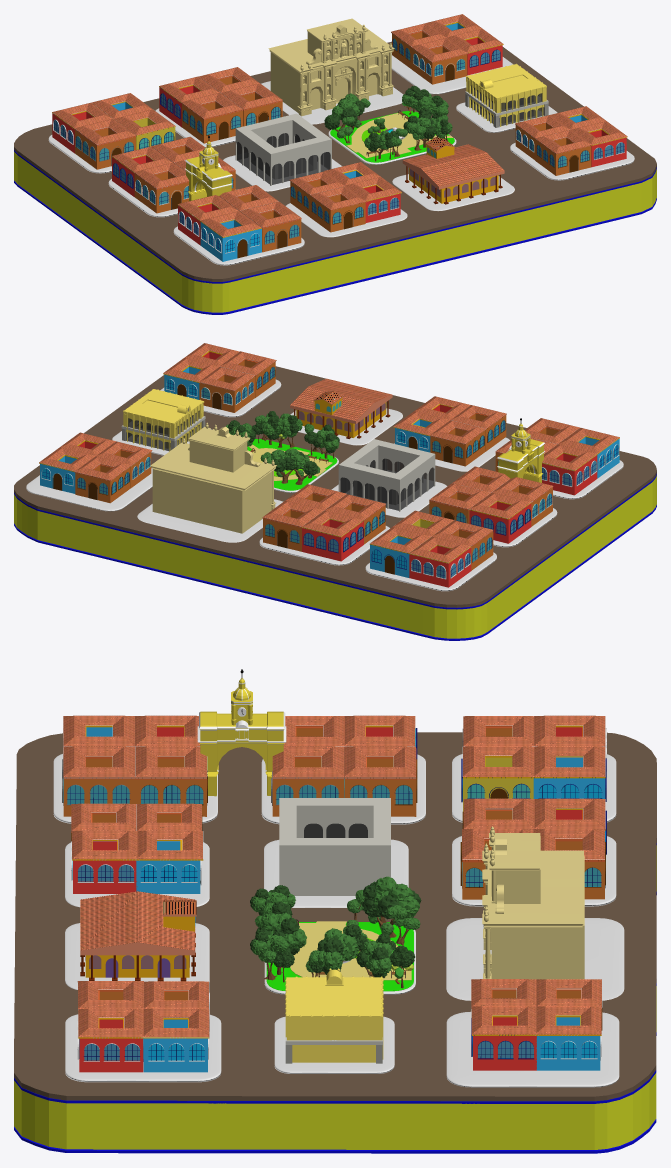
Rendered from FaseTREE.fbx.
The picture shows the model from 3 angles, top to bottom: view 1: azimuth 30°, elevation 25°; view 2: azimuth 150°, elevation 25°; view 3: azimuth 270°, elevation 25°; orthographic projection. The views are drawn at different scales.
Visible parts, largest first — view 1: Cube.022, Cube, Cube.004, Cube.044, Cube.048, Cube.369, Cube.033, Cube.007, Cube.039, Cube.083, Cube.029, Cube.068 (+38 smaller); view 2: Cube.022, Cube, Cube.004, Cube.044, Cube.048, Cube.369, Cube.054, Cube.006, Cube.025, Cube.034, Cube.019, Cube.009 (+38 smaller); view 3: Cube.022, Cube, Cube.004, Cube.044, Cube.048, Cube.369, Cube.011, Cube.346, Cube.010, Cube.093, Cube.024, Cube.060 (+41 smaller).
Boxes of the visible parts, x1,y1,x2,y2 form: Cube.022: (14, 41, 656, 281); Cube: (14, 150, 656, 314); Cube.004: (268, 18, 394, 116); Cube.044: (235, 113, 331, 185); Cube.048: (402, 137, 504, 204); Cube.369: (465, 63, 548, 127); Cube.033: (200, 211, 261, 261); Cube.007: (181, 93, 242, 143); Cube.039: (134, 162, 189, 213); Cube.083: (75, 119, 135, 169); Cube.029: (535, 129, 592, 175); Cube.068: (411, 38, 468, 84); Cube.022: (14, 366, 656, 607); Cube: (14, 474, 656, 640); Cube.004: (150, 422, 276, 533); Cube.044: (338, 439, 435, 511); Cube.048: (290, 378, 392, 438); Cube.369: (121, 389, 205, 451); Cube.054: (409, 536, 471, 587); Cube.006: (302, 510, 363, 561); Cube.025: (469, 492, 531, 543); Cube.034: (541, 444, 597, 495); Cube.019: (74, 456, 130, 503); Cube.009: (430, 420, 485, 466); Cube.022: (14, 732, 656, 1101); Cube: (14, 843, 656, 1153); Cube.004: (482, 826, 584, 979); Cube.044: (279, 798, 390, 895); Cube.048: (80, 891, 196, 981); Cube.369: (285, 968, 383, 1063); Cube.011: (446, 918, 624, 1000); Cube.346: (446, 1011, 619, 1087); Cube.010: (197, 669, 286, 796); Cube.093: (62, 746, 135, 816); Cube.024: (344, 746, 417, 816); Cube.060: (77, 1008, 144, 1072).
Size of the model in its own units: 1852 by 429 by 1381.
60 materials, 1 textured.
